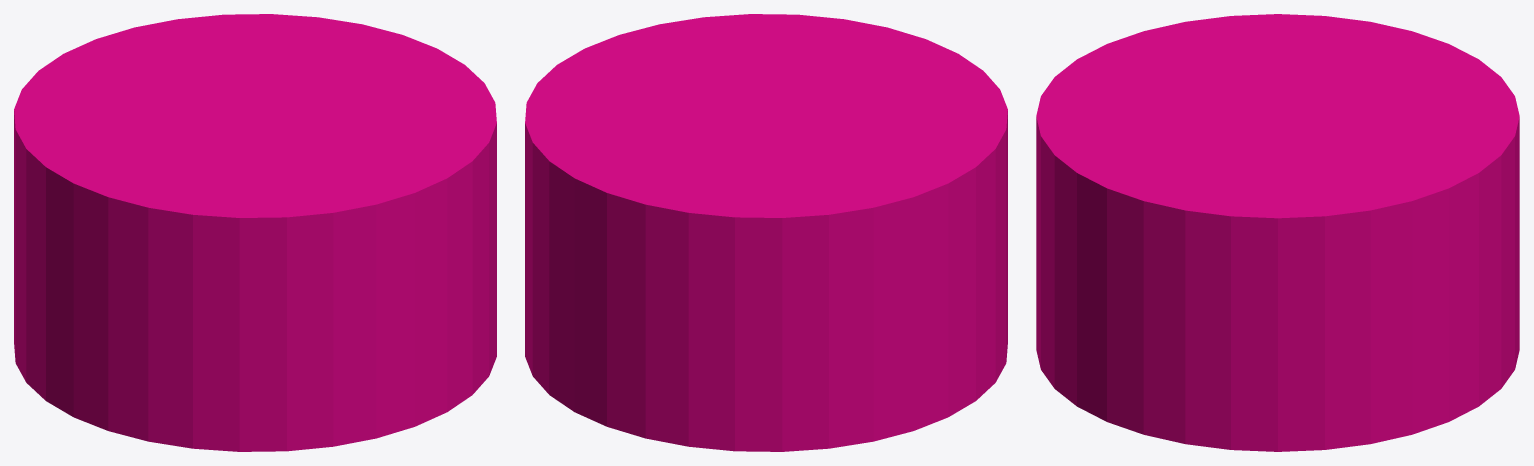
3 renders of one model, left to right at view 1: azimuth 30°, elevation 25°; view 2: azimuth 150°, elevation 25°; view 3: azimuth 270°, elevation 25°, orthographic.
Parts seen in each view (by area): view 1: tmp_export_Cylinder.005; view 2: tmp_export_Cylinder.005; view 3: tmp_export_Cylinder.005.
Boxes of the visible parts, x1,y1,x2,y2 form: tmp_export_Cylinder.005: (14, 14, 496, 451); tmp_export_Cylinder.005: (525, 14, 1007, 451); tmp_export_Cylinder.005: (1036, 14, 1519, 451).
Bounding box in the file's own units: 2 × 2 × 1.07.
